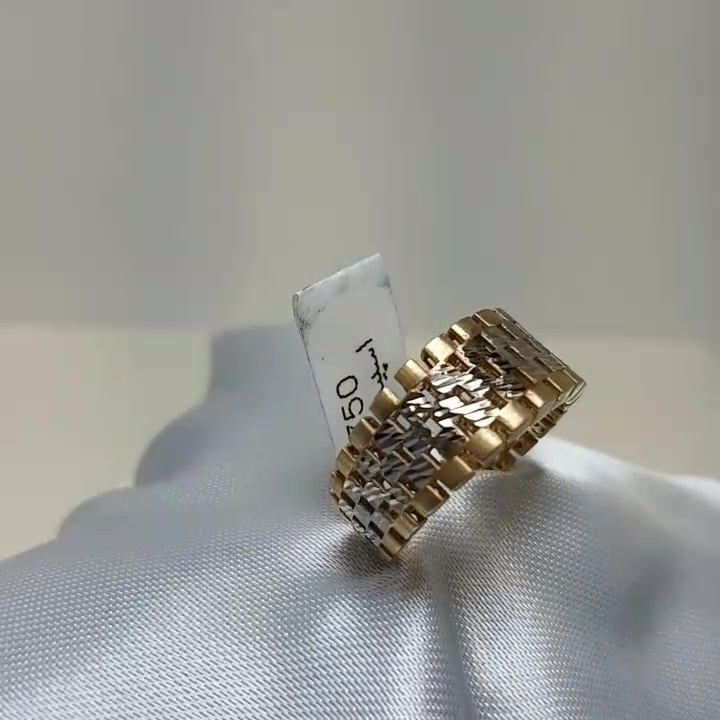Ring 1: (299, 271, 597, 589)
